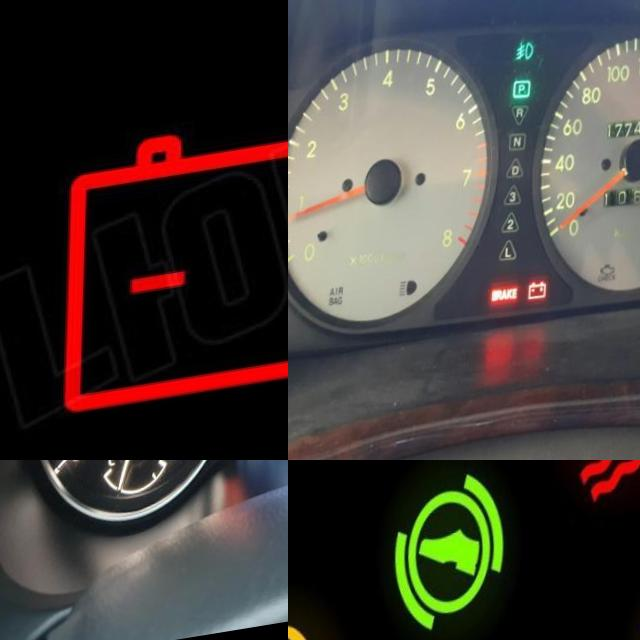Engine cooling system: (569, 460, 640, 524)
FrontFogLight: (515, 46, 535, 73)
